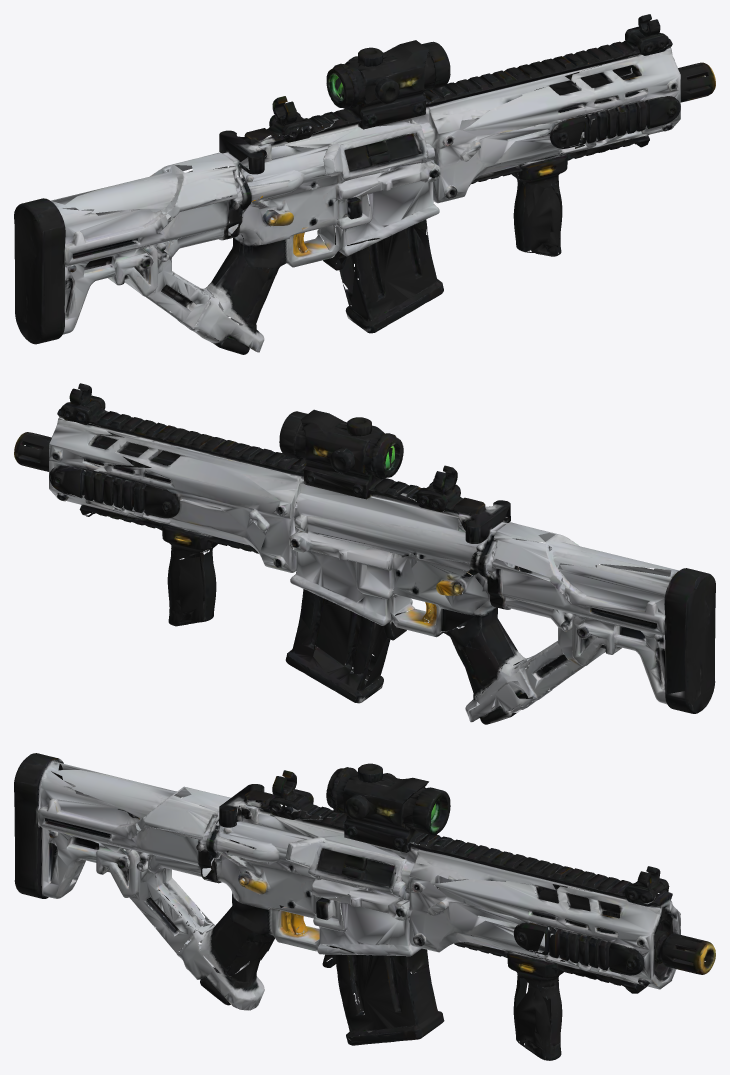
The picture shows the model from 3 angles, top to bottom: view 1: azimuth 30°, elevation 25°; view 2: azimuth 150°, elevation 25°; view 3: azimuth 330°, elevation 25°; orthographic projection.
Visible parts, largest first — view 1: Object_4; view 2: Object_4; view 3: Object_4.
Boxes of the visible parts, box(x1,y1,x2,y2) form: Object_4: box(14, 14, 715, 354); Object_4: box(14, 383, 715, 724); Object_4: box(14, 753, 715, 1060).
Size of the model in its own units: 1.18 by 0.4505 by 0.1313.
1 material, 1 textured.
